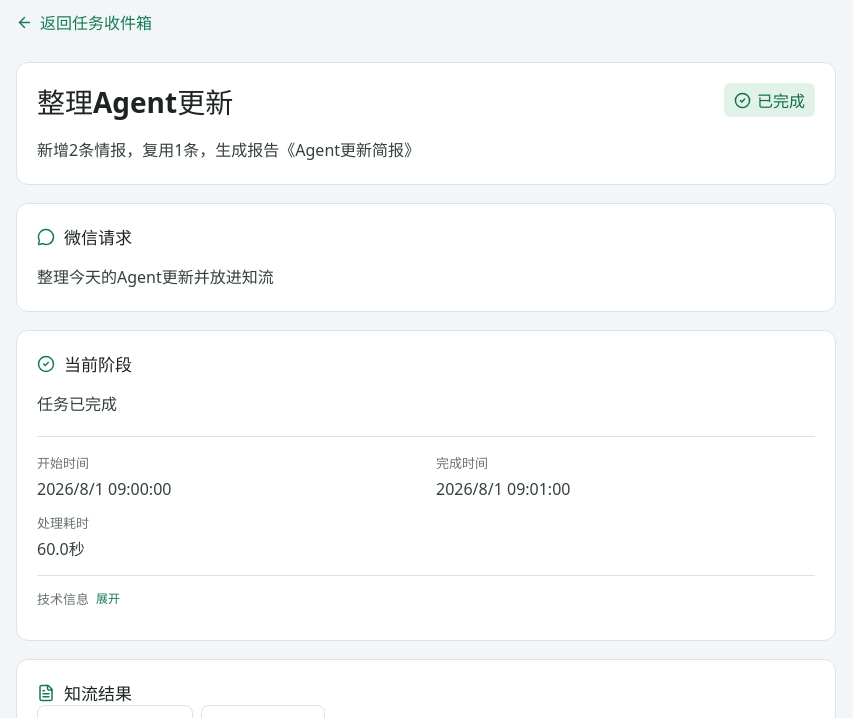
Test case: 展示任务阶段、结果和追踪入口
Expected: the heading "整理Agent更新" is shown, [37, 83, 233, 122]
Expected: the text "已完成" is shown, [724, 83, 815, 117]
Click the heading "技术信息". click: (78, 598)
box: [37, 576, 120, 620]
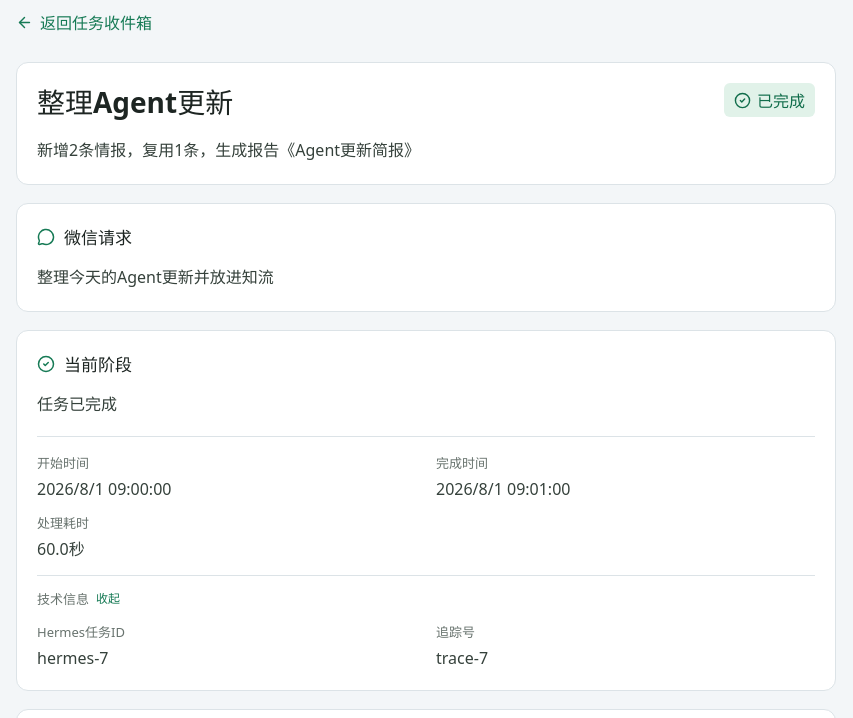
Result: the text "hermes-7" is shown at [37, 647, 108, 669]
Result: the text "trace-7" is shown at [436, 647, 488, 669]
